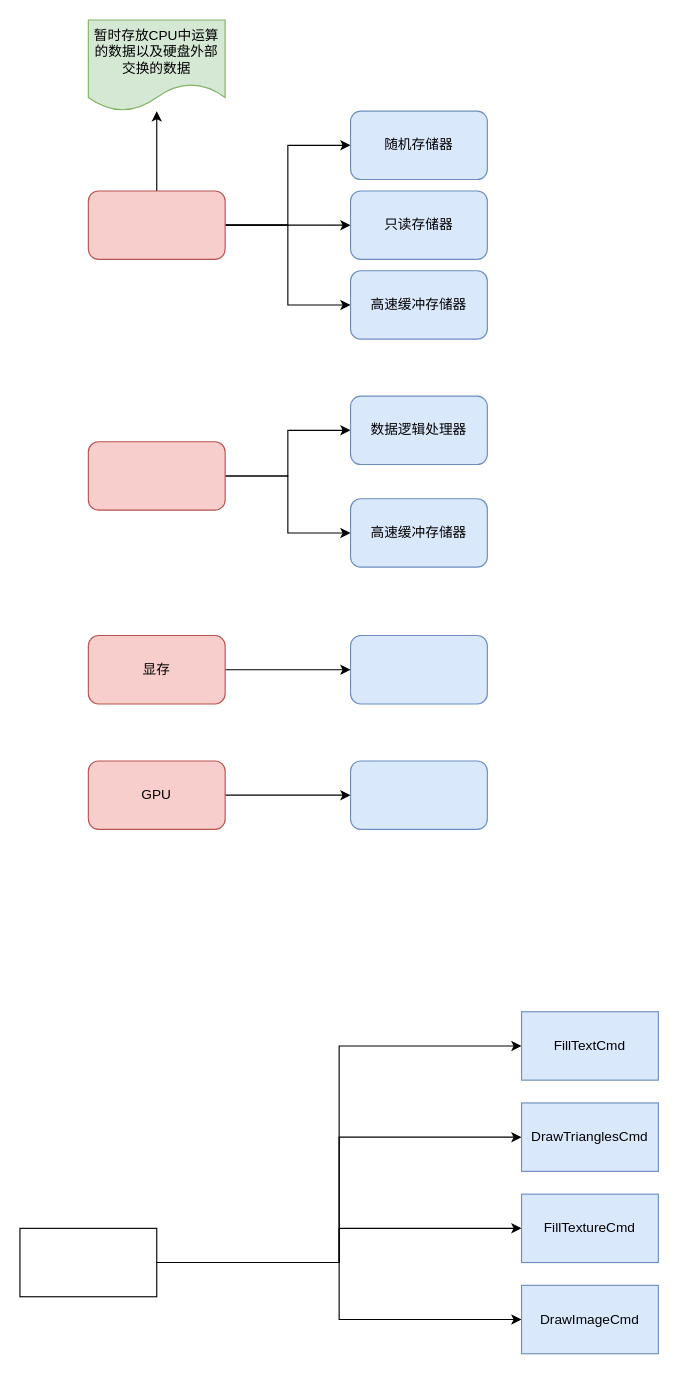
Image size: 678x1374. Some labels were removed from this diagram. The centre of each missing label's shape, as x and y in pixels:
CPU: (x=156, y=475)
作用为显卡芯片处理和提取待渲染的数据: (x=418, y=669)
内存: (x=156, y=224)
显卡中不可或缺的部分，拥有超多运算 逻辑单元，超速处理数据: (x=418, y=794)
渲染CMDs: (x=88, y=1262)
